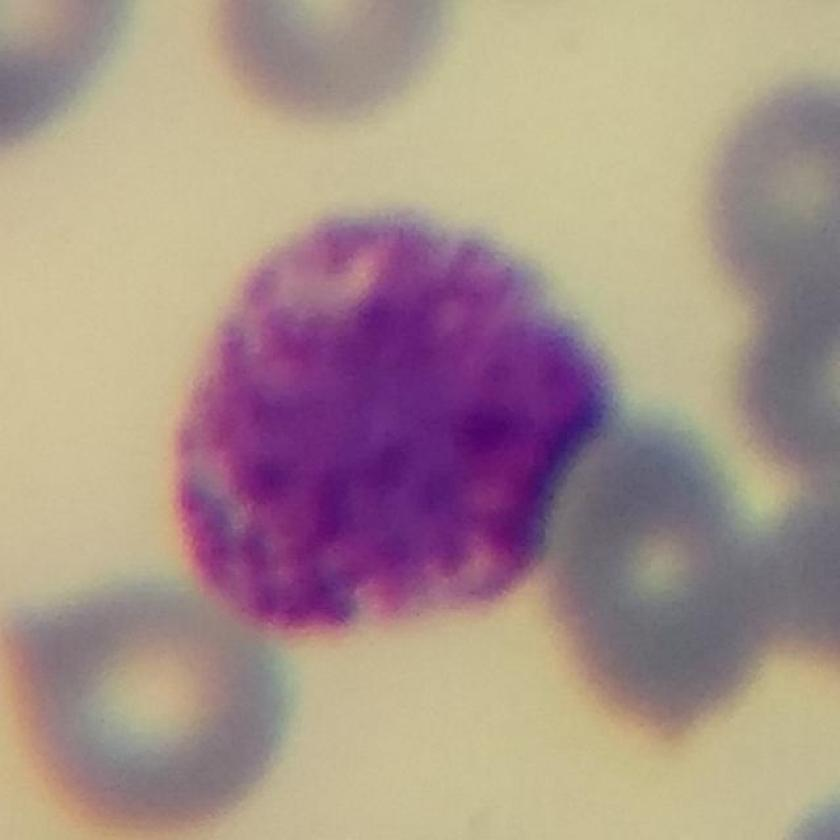basophil: (167, 194, 633, 640)
